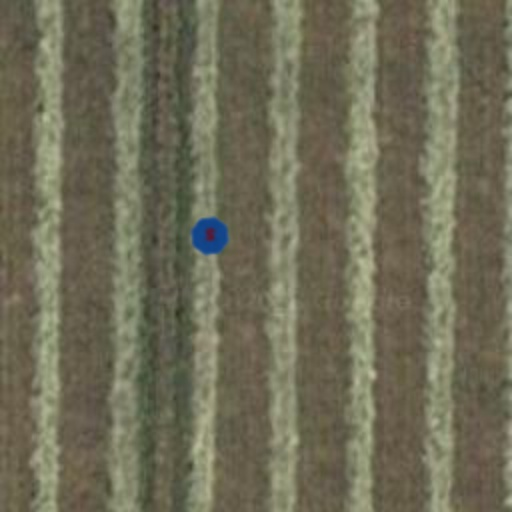octagon: (184, 210, 236, 262)
